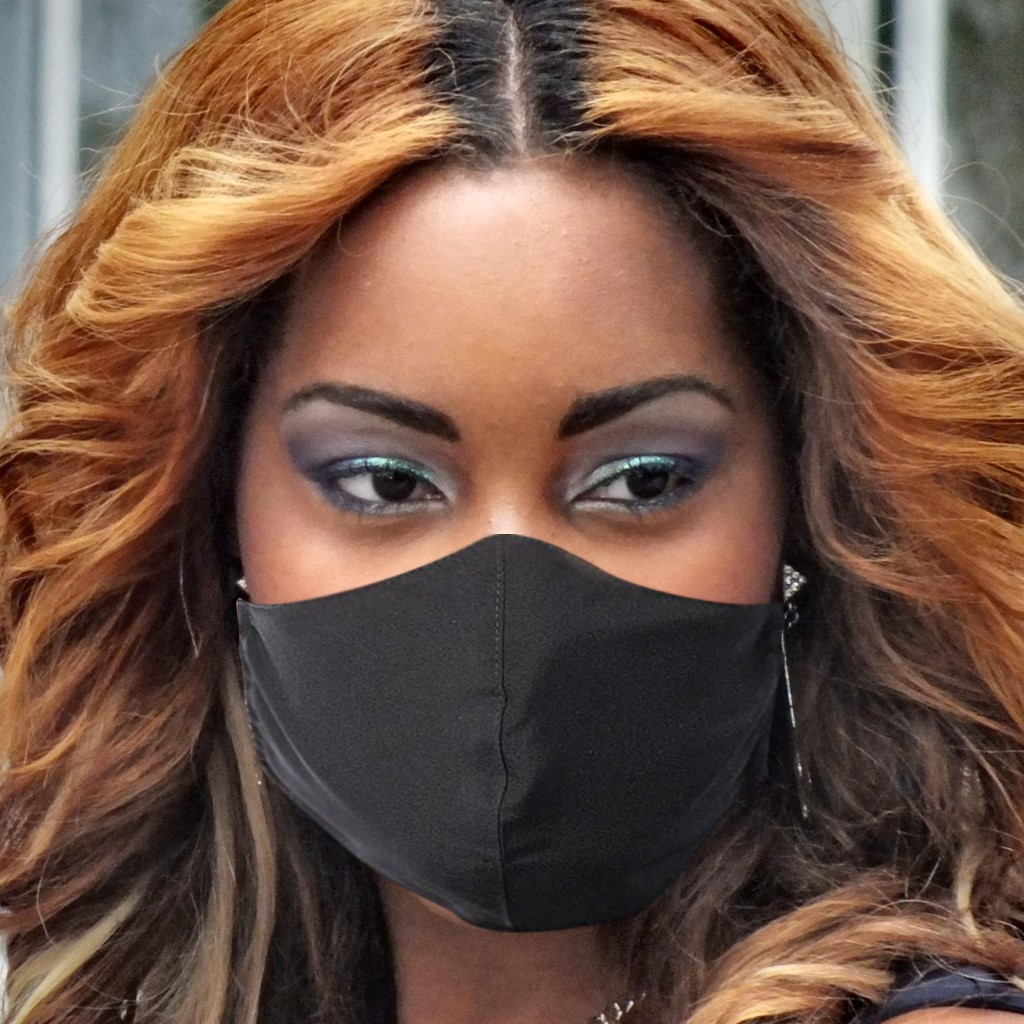con_mascara: (222, 120, 822, 954)
